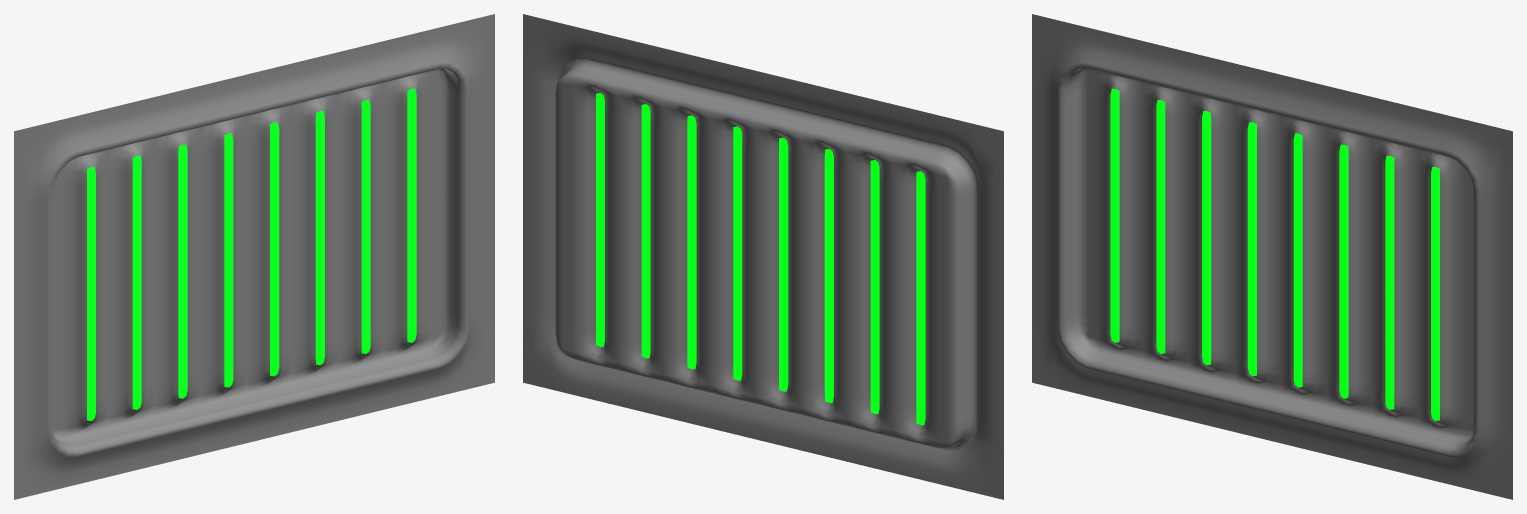
Rendered from WallTile11.fbx.
3 renders of one model, left to right at view 1: azimuth 30°, elevation 25°; view 2: azimuth 150°, elevation 25°; view 3: azimuth 330°, elevation 25°, orthographic.
Parts seen in each view (by area): view 1: Plane013; view 2: Plane013; view 3: Plane013.
Part boxes in pixels (x1,y1,x2,y2): Plane013: [14, 14, 494, 499]; Plane013: [523, 14, 1003, 499]; Plane013: [1032, 14, 1512, 499].
Bounding box in the file's own units: 938 × 687 × 44.61.
